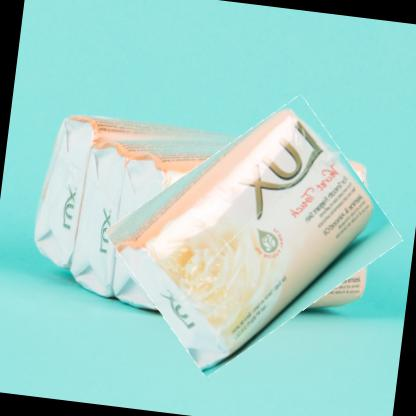soap: (105, 103, 400, 369)
